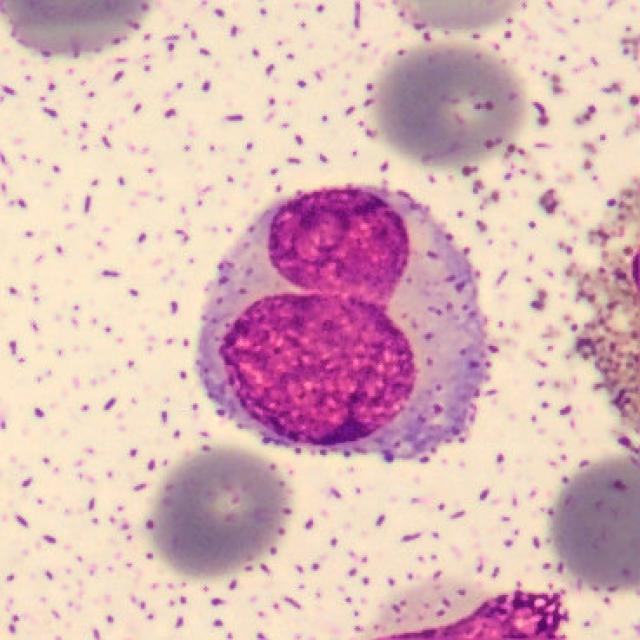Mieloblasto: (195, 185, 490, 462)
